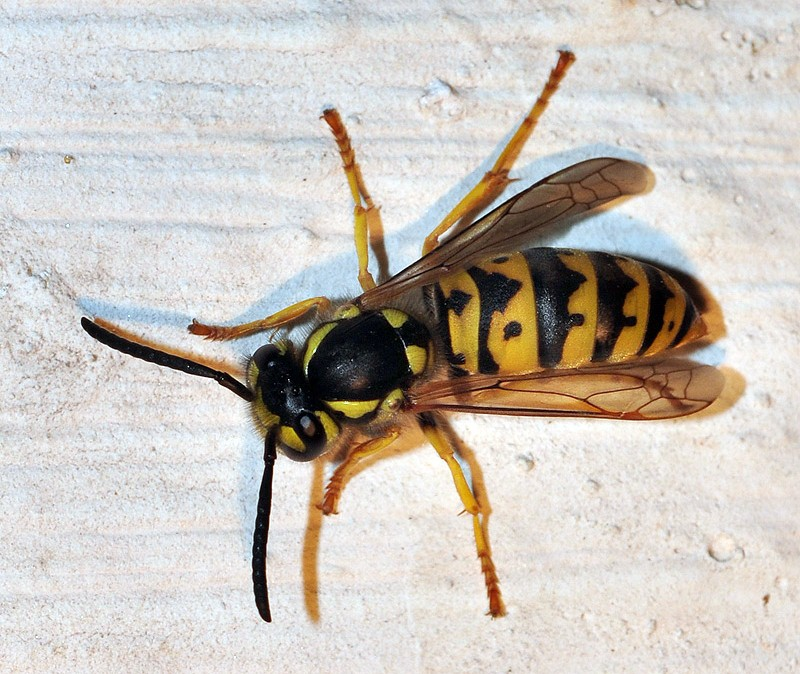chax: (58, 44, 742, 650)
